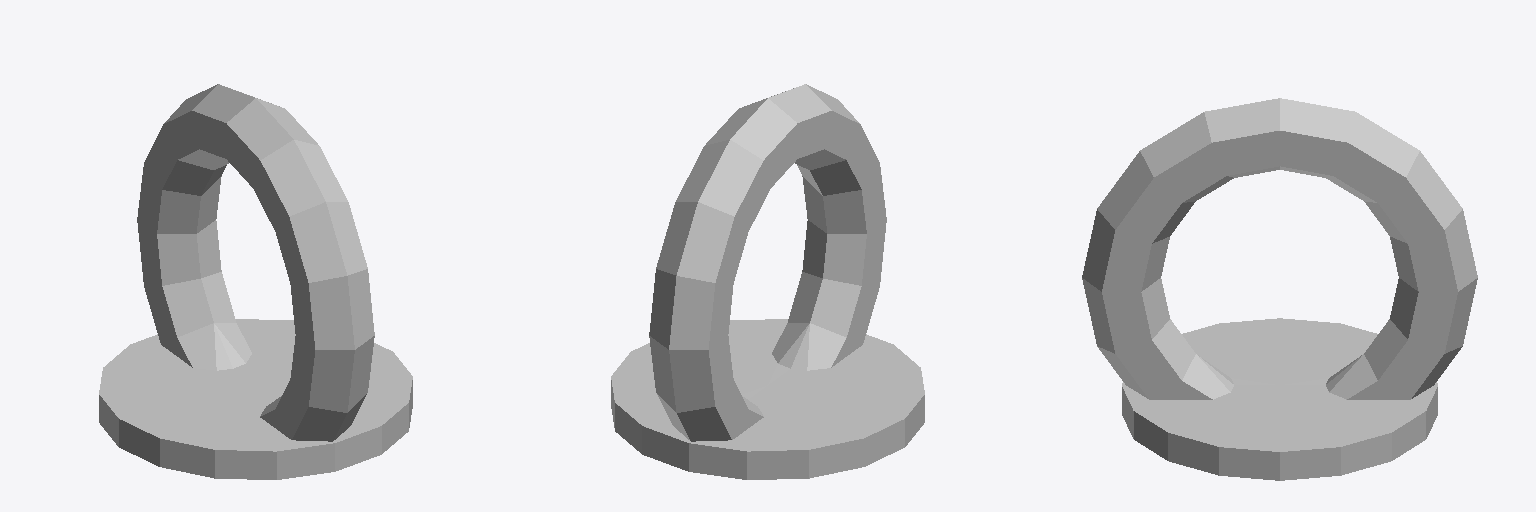
Rendered from portal.obj.
3 views of the same model, side by side, from view 1: azimuth 30°, elevation 25°; view 2: azimuth 150°, elevation 25°; view 3: azimuth 270°, elevation 25° (orthographic).
Parts seen in each view (by area): view 1: Torus.001; view 2: Torus.001; view 3: Torus.001.
Boxes of the visible parts, box(x1,y1,x2,y2) form: Torus.001: box(99, 84, 412, 479); Torus.001: box(611, 84, 924, 479); Torus.001: box(1082, 98, 1477, 480).
Size of the model in its own units: 2 by 2.2 by 2.5.